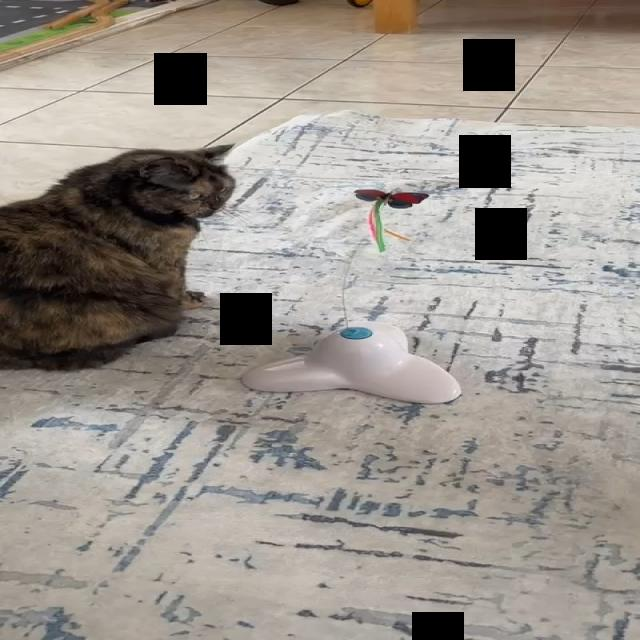authorized: (0, 142, 237, 371)
